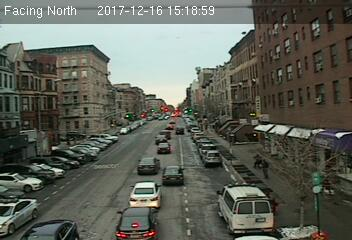car: (114, 207, 160, 239), (128, 183, 160, 208), (161, 165, 185, 184), (138, 157, 159, 175), (204, 151, 222, 165), (157, 143, 171, 152), (154, 136, 169, 142), (175, 126, 184, 134)
police: (214, 181, 280, 236)
